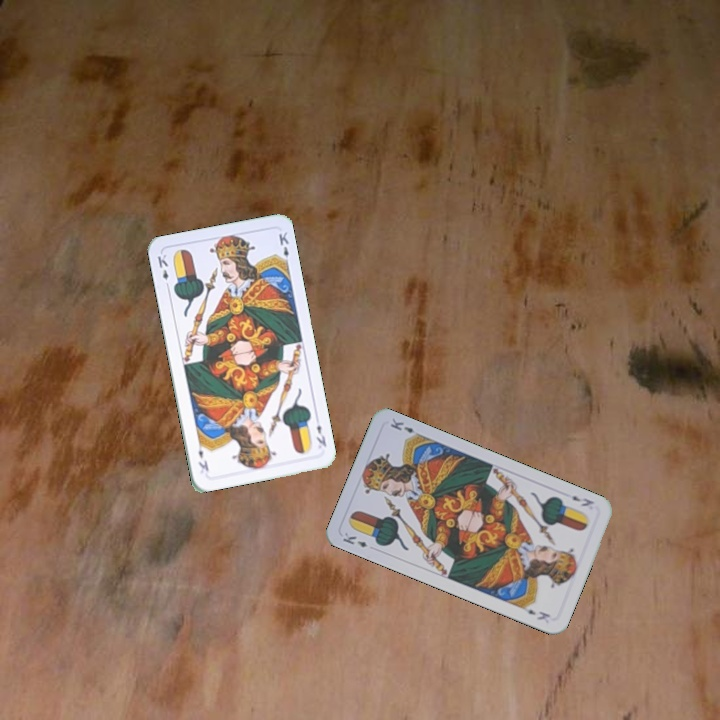EK: (153, 250, 172, 291), (339, 528, 370, 550), (568, 491, 597, 509), (312, 420, 329, 449)
